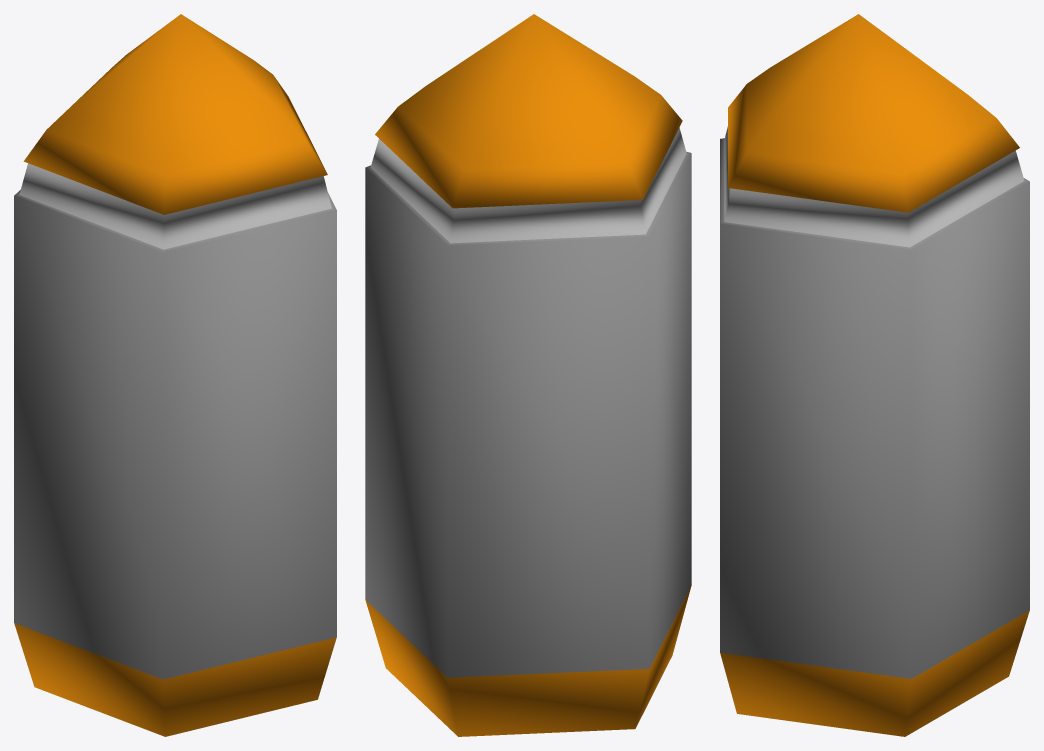
Rendered from jetRocket-01.fbx.
The picture shows the model from 3 angles, left to right: view 1: azimuth 30°, elevation 25°; view 2: azimuth 150°, elevation 25°; view 3: azimuth 270°, elevation 25°; orthographic projection.
Visible parts, largest first — view 1: Circle; view 2: Circle; view 3: Circle.
Part boxes in pixels (x1=…): Circle: x1=14, y1=14, x2=336, y2=736; Circle: x1=365, y1=14, x2=691, y2=736; Circle: x1=720, y1=14, x2=1029, y2=736.
Size of the model in its own units: 190 by 427 by 181.
